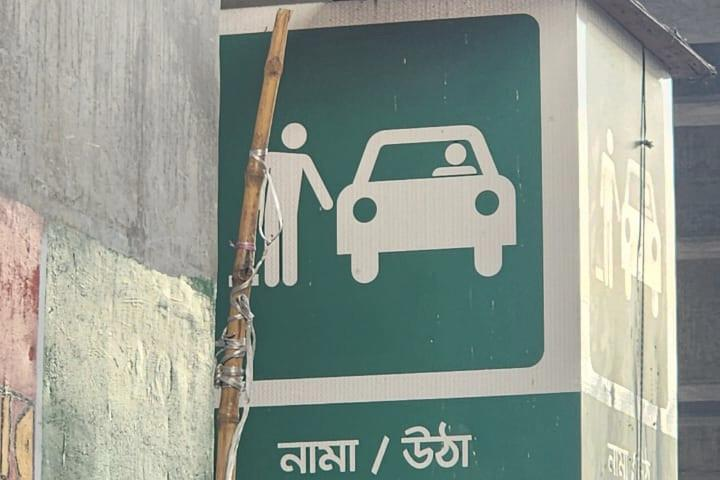Metro Dorp Up Pick up: (195, 0, 684, 480)
